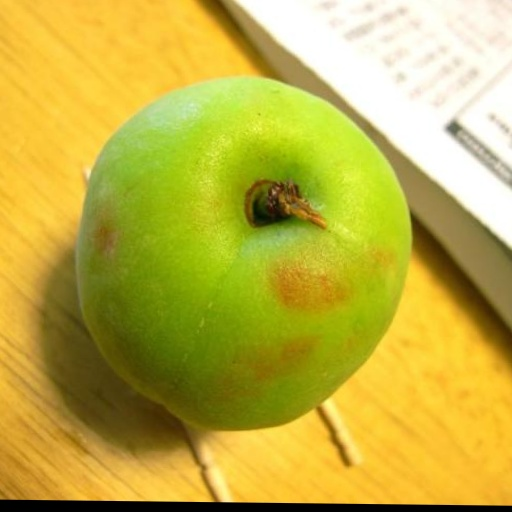fruit: (76, 78, 410, 429)
